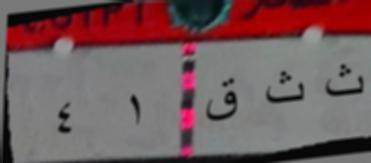1: (120, 79, 155, 134)
4: (49, 92, 91, 144)
qaaf: (198, 68, 244, 130)
thaa: (257, 62, 308, 114), (320, 54, 369, 106)
